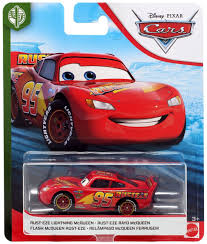mcqueen: (11, 50, 188, 150), (35, 167, 158, 217)
